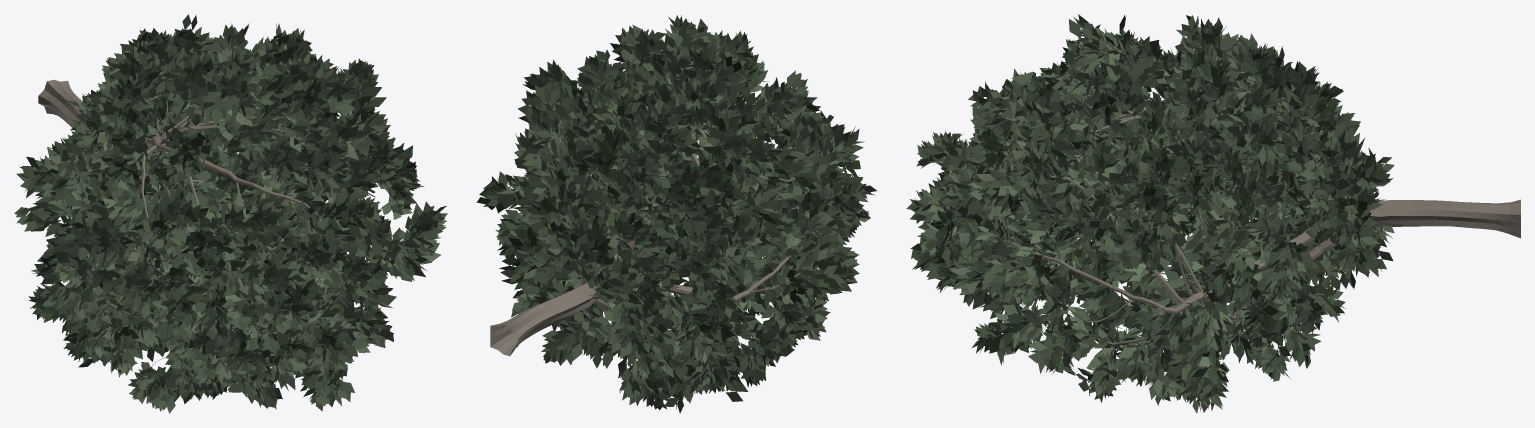
File: tree_near_07.obj
3 views of the same model, side by side, from view 1: azimuth 30°, elevation 25°; view 2: azimuth 150°, elevation 25°; view 3: azimuth 270°, elevation 25° (orthographic). The views are drawn at different scales.
Parts seen in each view (by area): view 1: tree_near_07; view 2: tree_near_07; view 3: tree_near_07.
Boxes of the visible parts, x1,y1,x2,y2 form: tree_near_07: (14, 14, 447, 413); tree_near_07: (476, 15, 876, 413); tree_near_07: (906, 14, 1520, 413).
Size of the model in its own units: 0.6784 by 0.6794 by 0.9974.
1 material, 1 textured.
